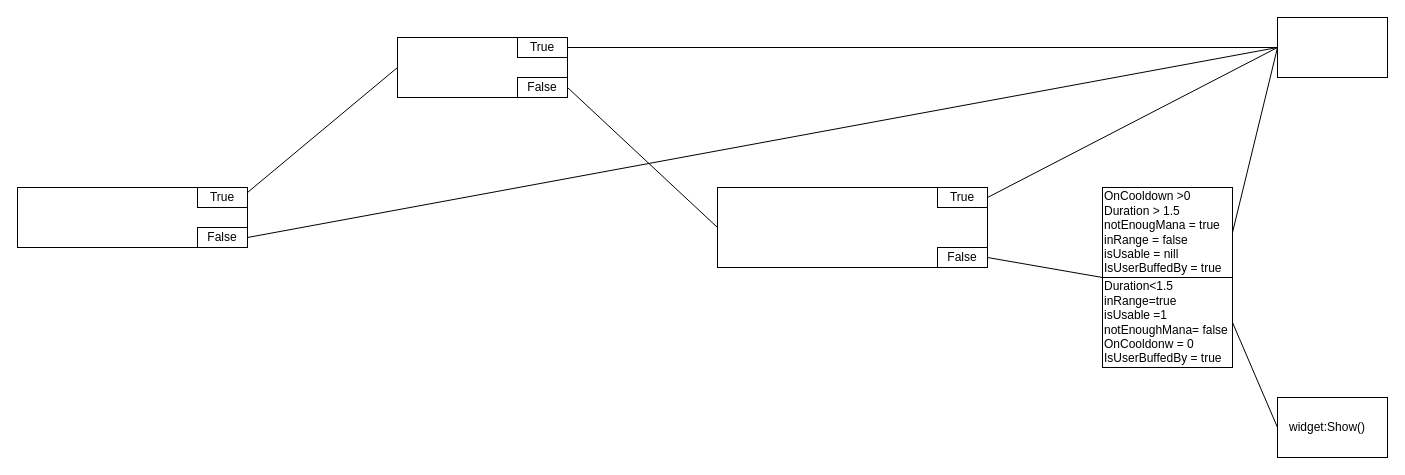
Image size: 1405x475. Some labels were removed from this diagram. Each missing label, with the box of its shape:
isConfigMode or IsBoosted: (396, 36, 568, 98)
isResting and trackedActionsHideInRestZone or displayOnlyWhenBoosted: (716, 186, 988, 268)
UI:IsValueSame(actionSpec,userSpec): (16, 186, 248, 248)
widget:Hide(): (1276, 16, 1388, 78)
